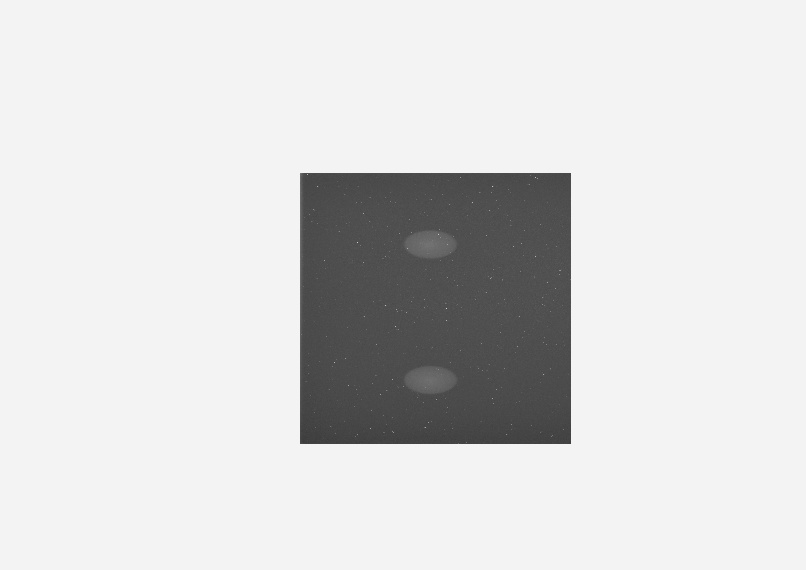bubble: (403, 229, 457, 259), (404, 365, 458, 395)
